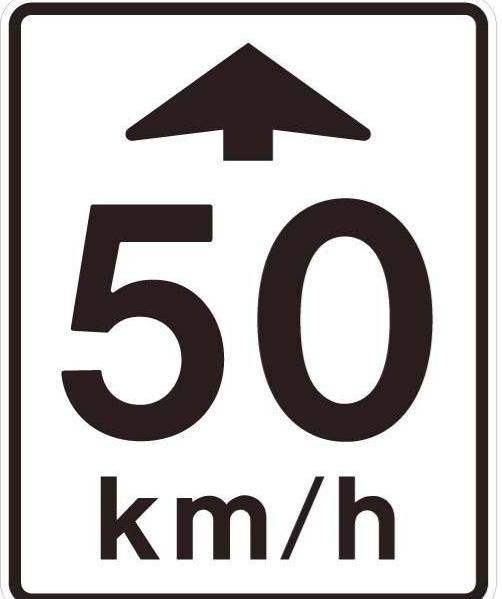Speed Limit -50-: (0, 1, 501, 598)
